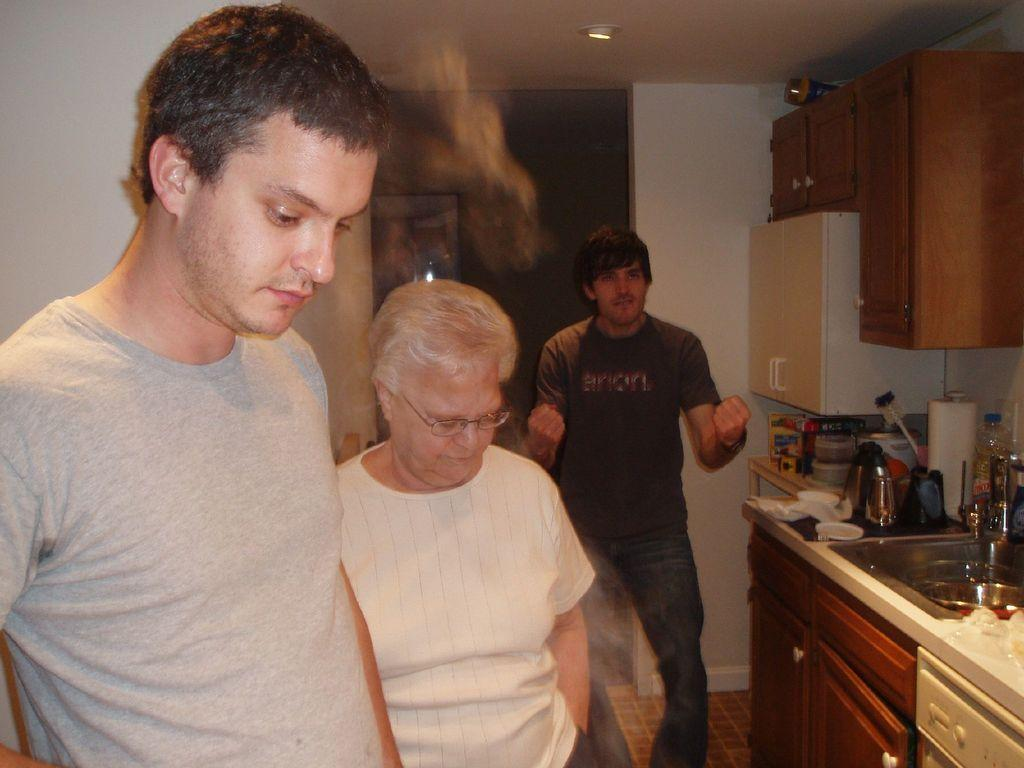cabinet_door: (860, 107, 918, 344), (780, 226, 826, 414), (754, 622, 804, 768), (822, 665, 892, 768), (748, 236, 778, 394), (806, 116, 848, 198), (774, 122, 804, 207)
handle: (772, 353, 790, 394), (763, 352, 781, 393), (790, 638, 808, 672), (875, 748, 905, 768), (800, 173, 818, 195), (788, 170, 802, 196), (854, 292, 868, 316)
